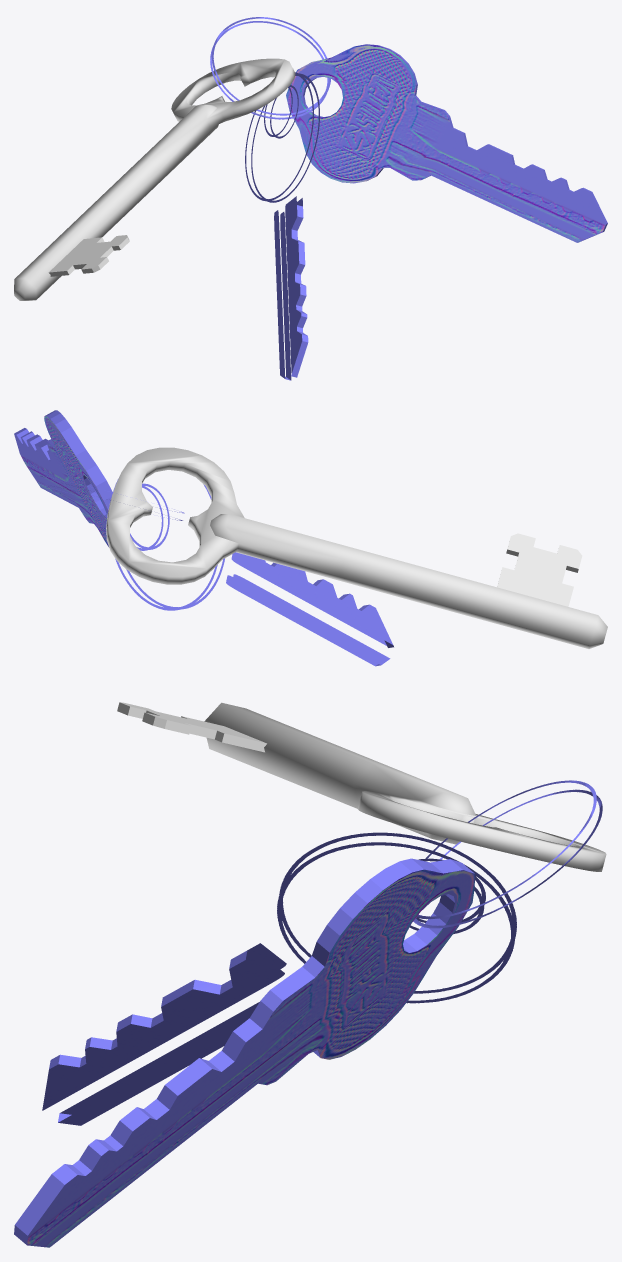
The model's file is Keys2.fbx.
3 views of the same model, one above another, from view 1: azimuth 30°, elevation 25°; view 2: azimuth 150°, elevation 25°; view 3: azimuth 270°, elevation 25° (orthographic). The views are drawn at different scales.
Parts seen in each view (by area): view 1: Keys2; view 2: Keys2; view 3: Keys2.
Boxes of the visible parts, left/top/right/bottom form: Keys2: left=14, top=17, right=607, bottom=380; Keys2: left=14, top=410, right=607, bottom=666; Keys2: left=14, top=702, right=606, bottom=1247.
Bounding box in the file's own units: 611 × 252 × 322.
